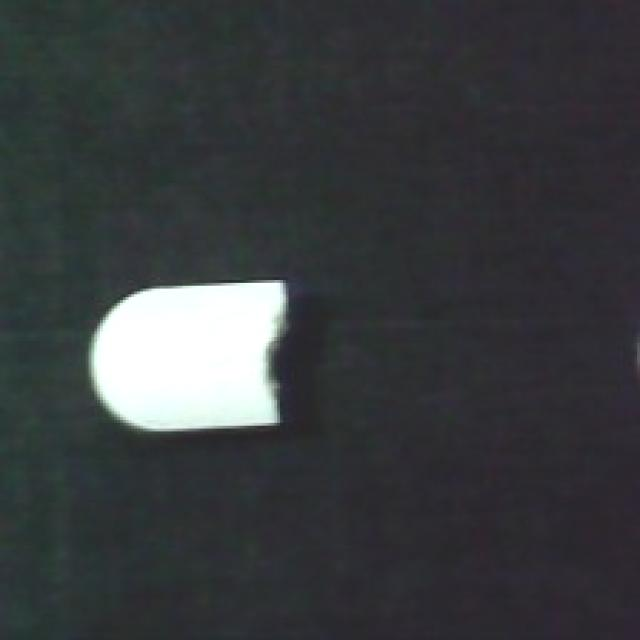defected: (83, 277, 297, 440)
